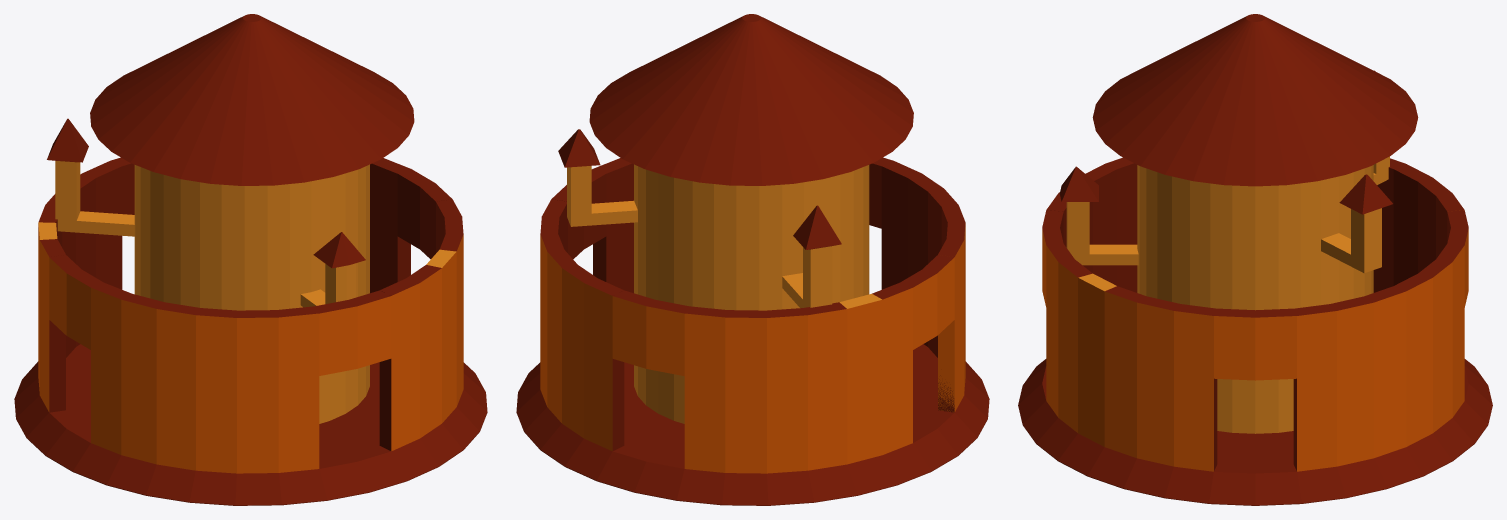
The model's file is City.fbx.
The picture shows the model from 3 angles, left to right: view 1: azimuth 30°, elevation 25°; view 2: azimuth 150°, elevation 25°; view 3: azimuth 270°, elevation 25°; orthographic projection.
Parts seen in each view (by area): view 1: Cylinder; view 2: Cylinder; view 3: Cylinder.
Boxes of the visible parts, bbox=[...] form: Cylinder: bbox=[14, 14, 487, 505]; Cylinder: bbox=[516, 14, 989, 505]; Cylinder: bbox=[1018, 14, 1492, 505].
Size of the model in its own units: 1391 by 1255 by 1391.
